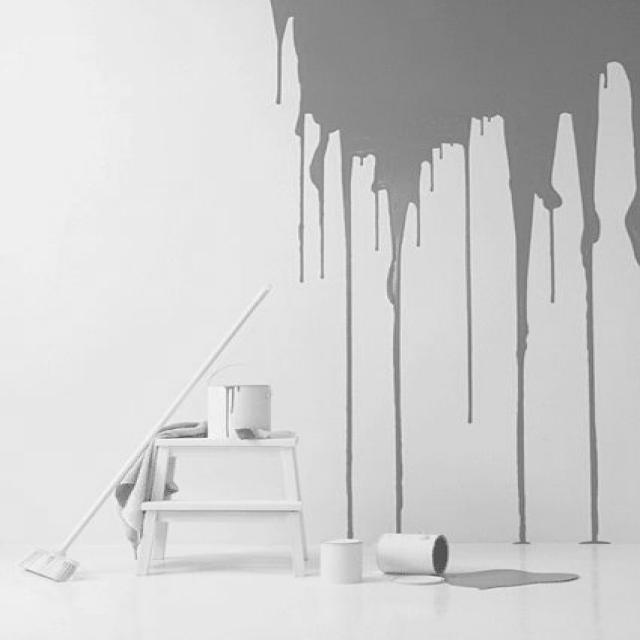paint drips: (290, 34, 640, 542), (264, 2, 290, 108)
